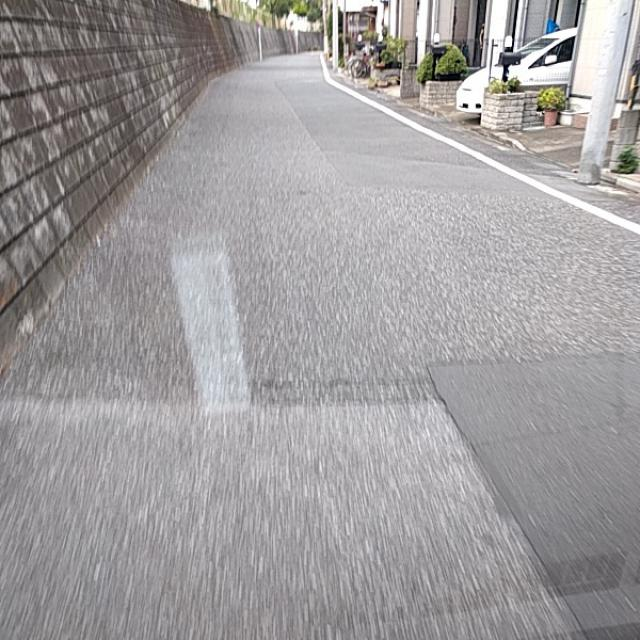pothole: (326, 336, 461, 442)
